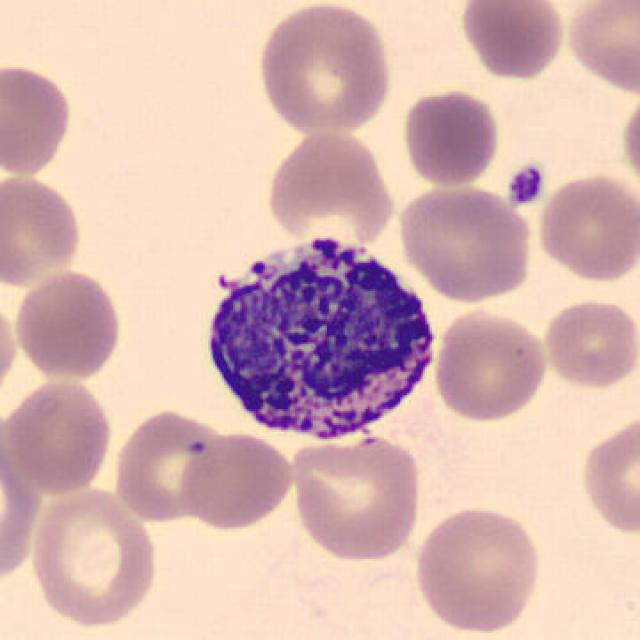Basophil: (194, 224, 448, 451)
Platelets: (505, 160, 547, 210)
RBC: (253, 0, 397, 138), (25, 483, 160, 630), (286, 430, 427, 564), (410, 501, 546, 636), (395, 180, 537, 305), (262, 127, 398, 249), (430, 305, 551, 425), (110, 406, 228, 526), (1, 376, 116, 497), (9, 266, 126, 383), (176, 430, 297, 531), (534, 169, 636, 284), (398, 86, 503, 189), (0, 171, 85, 291), (539, 294, 638, 392), (455, 0, 569, 83), (0, 58, 76, 179), (576, 409, 638, 541), (0, 414, 46, 589), (562, 0, 638, 97), (618, 86, 640, 197), (0, 289, 20, 406)
